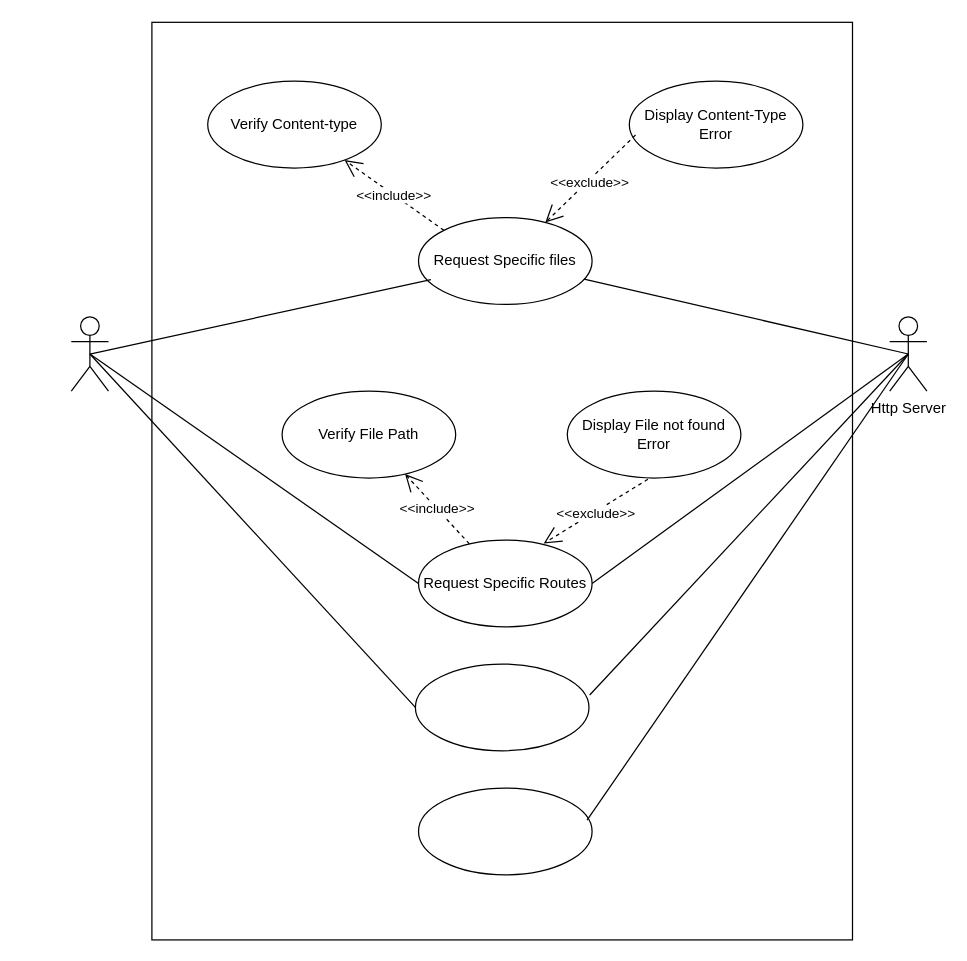
Some shapes in this 967 by 961 pixel diagram are drawn without their labels. Each missing label, with the box of its shape:
Client(Web Browser): (70, 316, 108, 391)
Handle Errors: (417, 787, 592, 875)
Sends Data: (414, 663, 589, 751)
